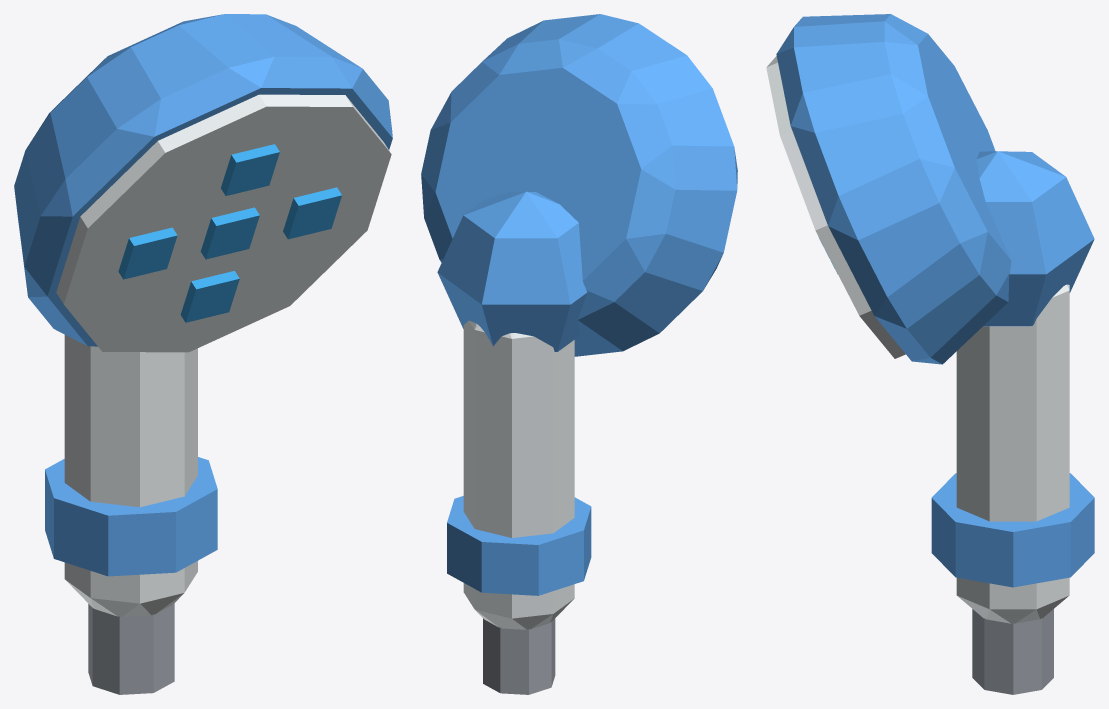
File: CleanACat_Tool_Shower.fbx
The picture shows the model from 3 angles, left to right: view 1: azimuth 30°, elevation 25°; view 2: azimuth 150°, elevation 25°; view 3: azimuth 270°, elevation 25°; orthographic projection. The views are drawn at different scales.
Parts seen in each view (by area): view 1: CleanACat_Tool_Shower; view 2: CleanACat_Tool_Shower; view 3: CleanACat_Tool_Shower.
Boxes of the visible parts, bbox=[...] form: CleanACat_Tool_Shower: bbox=[14, 14, 392, 694]; CleanACat_Tool_Shower: bbox=[421, 14, 737, 694]; CleanACat_Tool_Shower: bbox=[766, 14, 1094, 694].
Size of the model in its own units: 0.7267 by 1.4 by 0.6445.
Materials: 1 (1 with a texture image).
